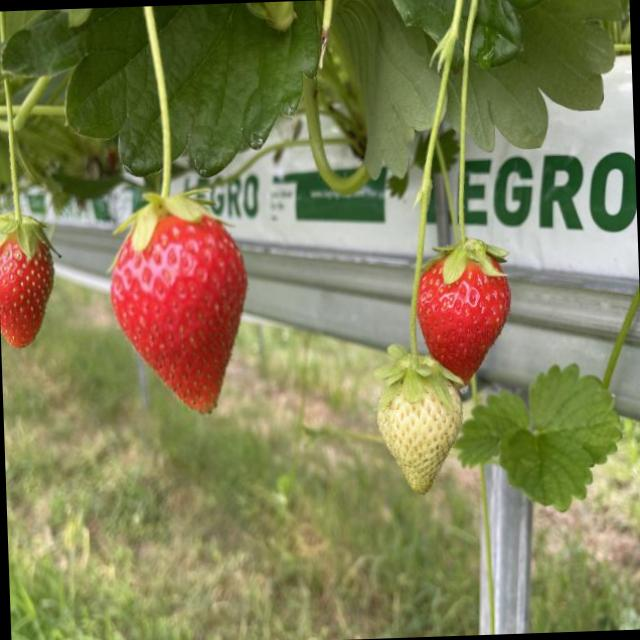stem: (379, 0, 462, 408), (114, 6, 216, 250), (430, 134, 503, 283), (0, 74, 49, 258)
strawberryNR: (376, 385, 460, 492)
strawberryR: (109, 216, 246, 409), (419, 260, 509, 380), (0, 238, 52, 347)
